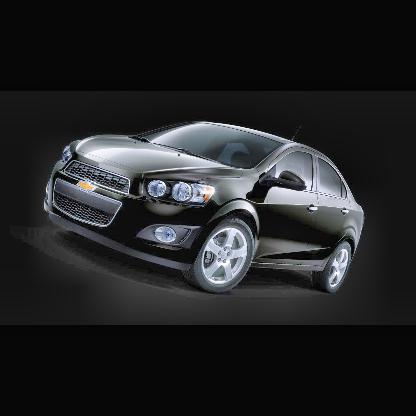Chevrolet Sonic Sedan 2012: (44, 120, 367, 295)
